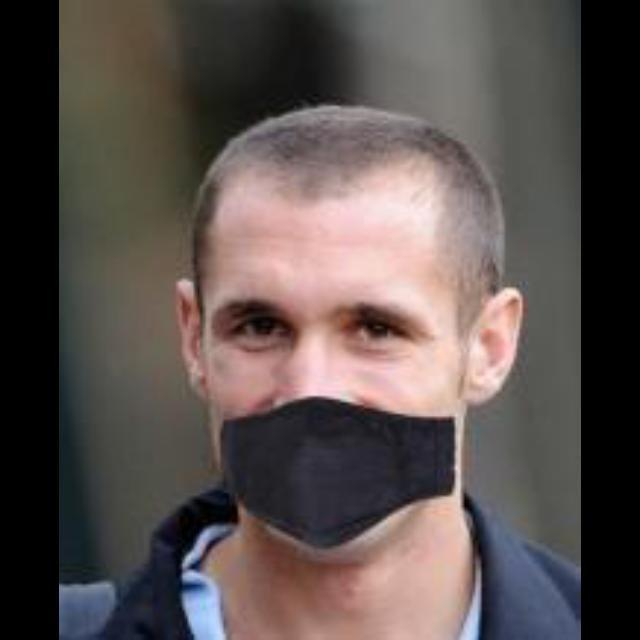suspicion: (182, 102, 518, 558)
